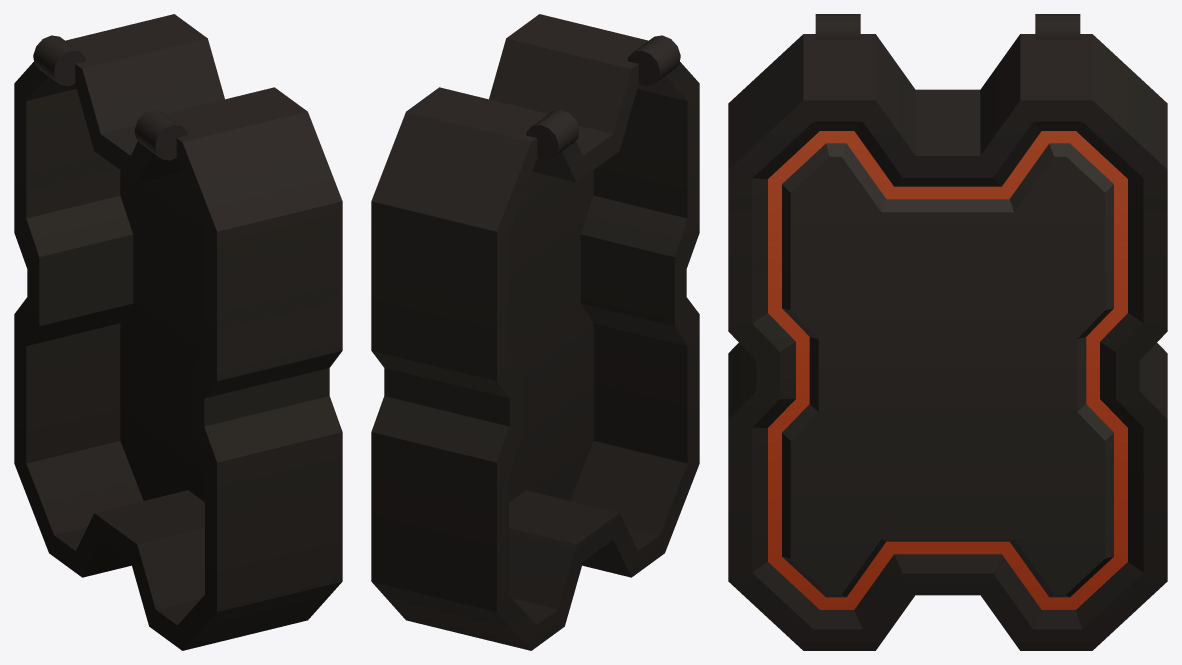
Rendered from GL4_RearCap.fbx.
3 renders of one model, left to right at view 1: azimuth 30°, elevation 25°; view 2: azimuth 150°, elevation 25°; view 3: azimuth 270°, elevation 25°, orthographic. The views are drawn at different scales.
Parts seen in each view (by area): view 1: GL4_RearCap; view 2: GL4_RearCap; view 3: GL4_RearCap.
Boxes of the visible parts, x1,y1,x2,y2 form: GL4_RearCap: (14, 14, 342, 650); GL4_RearCap: (371, 14, 699, 650); GL4_RearCap: (728, 14, 1167, 650).
Size of the model in its own units: 10.23 by 34.76 by 24.44.
